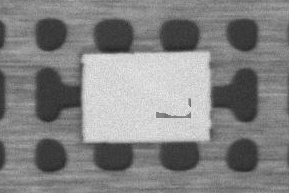DIE_INK: (234, 65, 286, 79)
